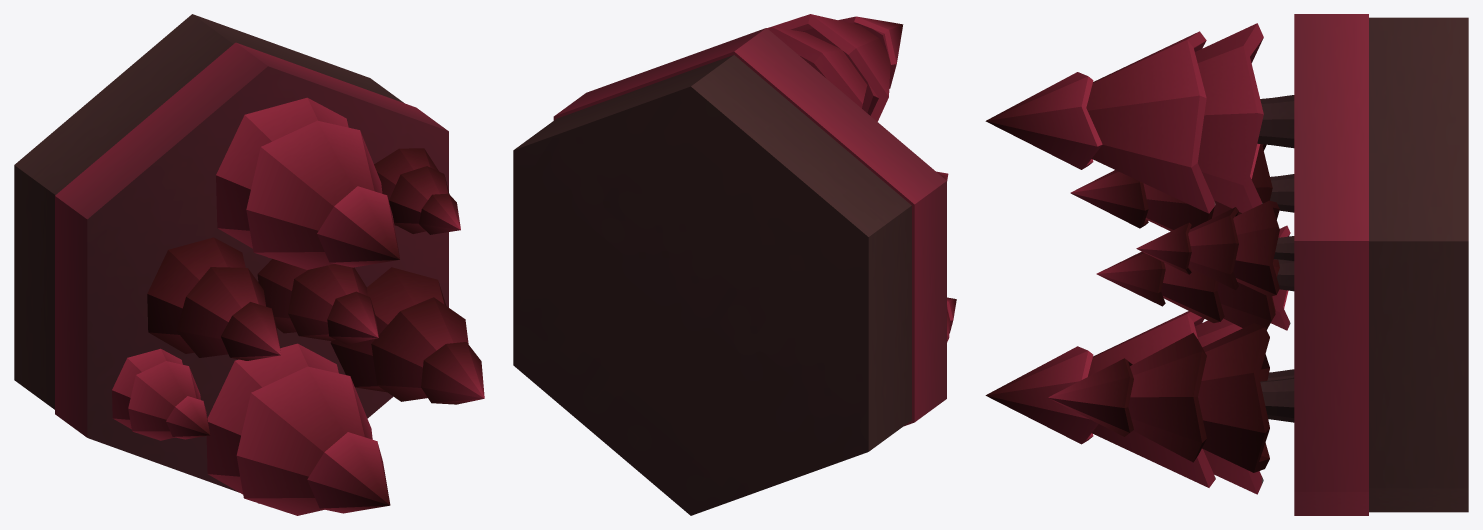
Rendered from NADELWALD_B_BURN.fbx.
3 renders of one model, left to right at view 1: azimuth 30°, elevation 25°; view 2: azimuth 150°, elevation 25°; view 3: azimuth 270°, elevation 25°, orthographic. The views are drawn at different scales.
Visible parts, largest first — view 1: NADELWALD_B_BURN; view 2: NADELWALD_B_BURN; view 3: NADELWALD_B_BURN.
Part boxes in pixels (bbox=[...]): NADELWALD_B_BURN: bbox=[14, 14, 484, 515]; NADELWALD_B_BURN: bbox=[513, 14, 956, 515]; NADELWALD_B_BURN: bbox=[985, 14, 1468, 515].
Bounding box in the file's own units: 172 × 199 × 174.
